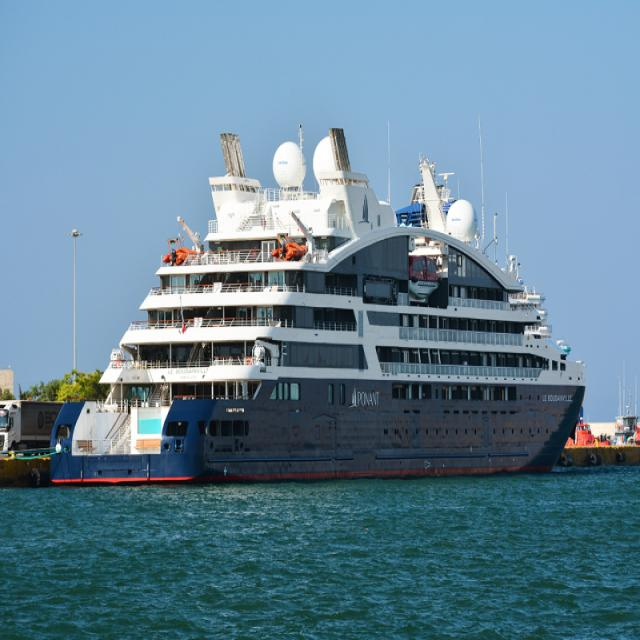cruises: (60, 122, 599, 500)
